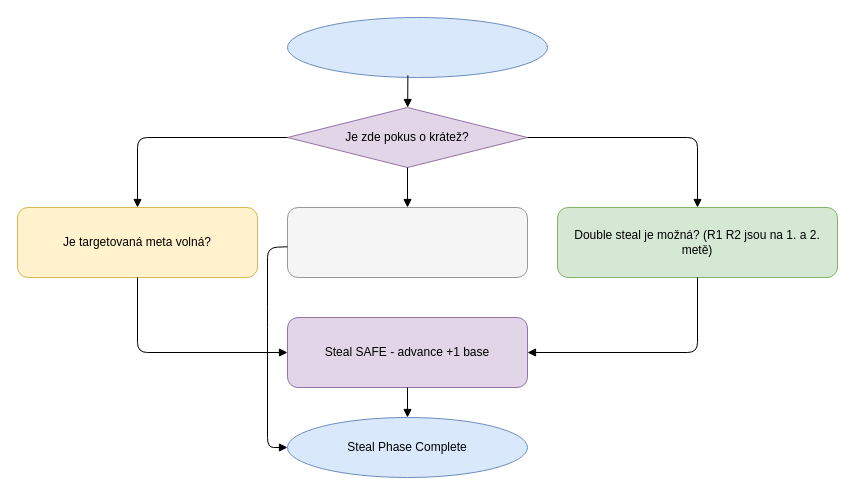
Some shapes in this 855 by 495 pixel diagram are drawn without their labels. Here are the shapes that lost their labels. From the top down, the box of each, then its label:
(286, 16, 548, 78): Mezi Nadhozem (Kradení met)
(286, 206, 528, 278): Nelze krást - někdo je na metě kterou chci krást
